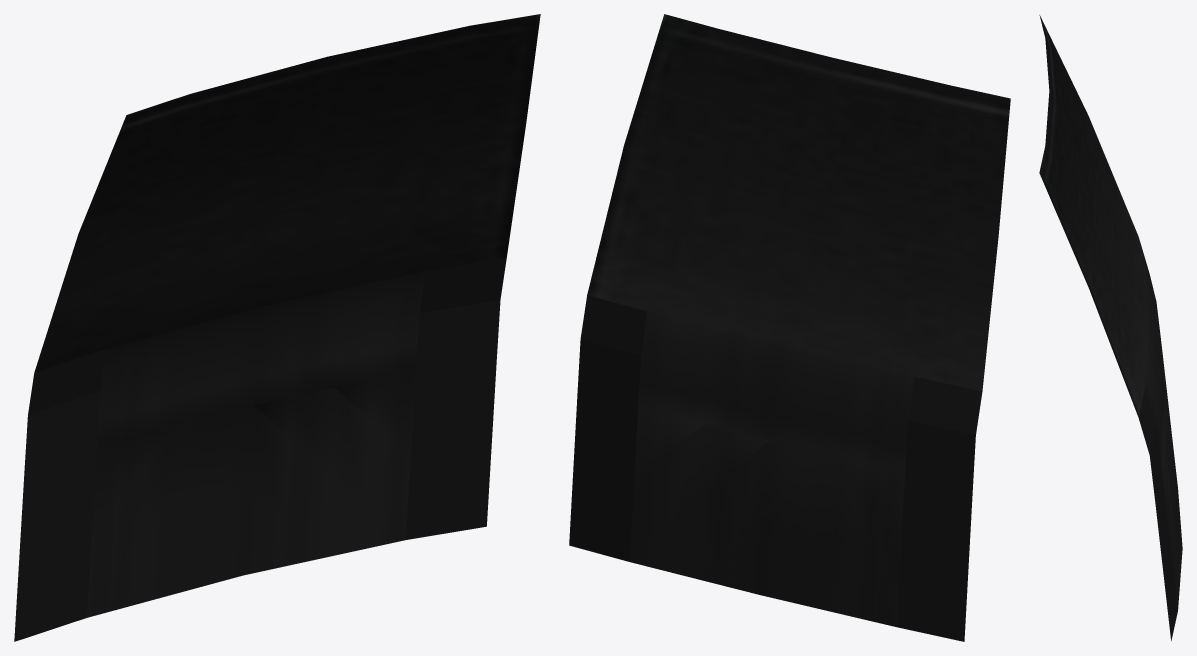
Rendered from Door.fbx.
The picture shows the model from 3 angles, left to right: view 1: azimuth 30°, elevation 25°; view 2: azimuth 150°, elevation 25°; view 3: azimuth 270°, elevation 25°; orthographic projection. The views are drawn at different scales.
Visible parts, largest first — view 1: Sphere.003; view 2: Sphere.003; view 3: Sphere.003.
Boxes of the visible parts, x1,y1,x2,y2 form: Sphere.003: [14, 14, 540, 641]; Sphere.003: [569, 14, 1010, 641]; Sphere.003: [1039, 15, 1182, 640].
Bounding box in the file's own units: 152 × 180 × 50.77.
1 material, 1 textured.
